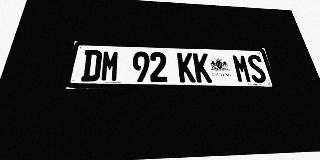2: (150, 52, 167, 82)
9: (132, 51, 150, 82)
D: (80, 50, 102, 82)
K: (177, 52, 196, 82), (193, 53, 212, 83)
M: (100, 50, 120, 82), (231, 54, 253, 83)
S: (246, 55, 268, 83)
